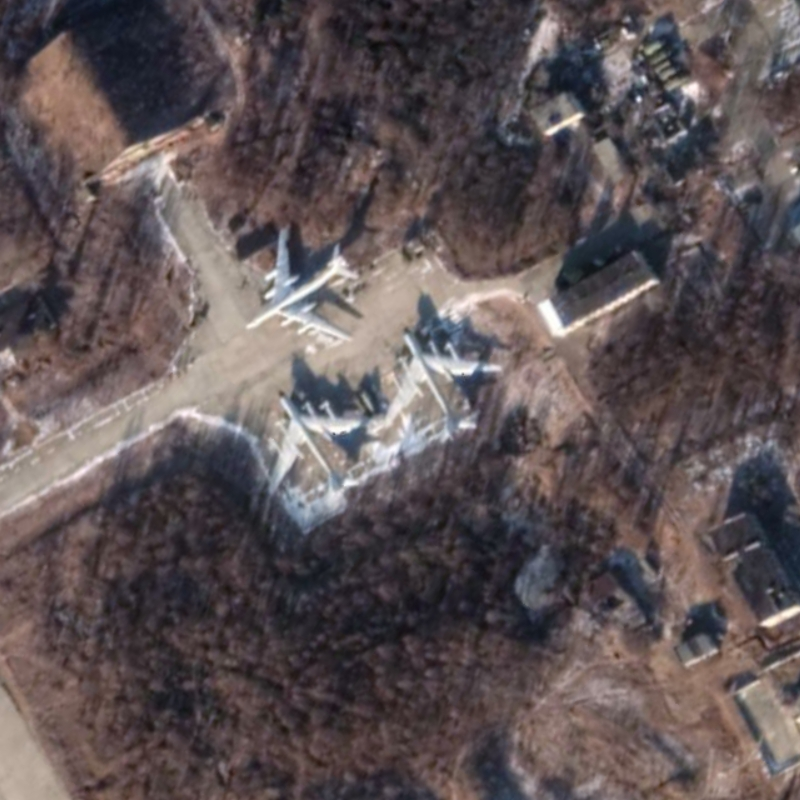A17: (381, 322, 505, 443), (241, 224, 359, 344), (262, 385, 381, 497)
